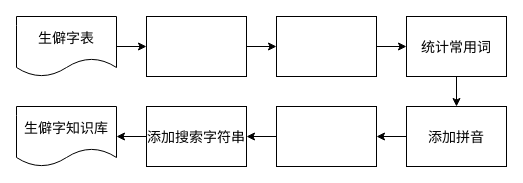
Image size: 523x183. Some labels were removed from this diagram. The shapes that lost their labels are listed below. From the top down, each one's box as (x1, y1, x2, y2) in pixels, then its label:
(146, 16, 246, 76): 统计通用度
(276, 16, 376, 76): 添加汉字等级
(276, 106, 376, 166): 添加组成部件
